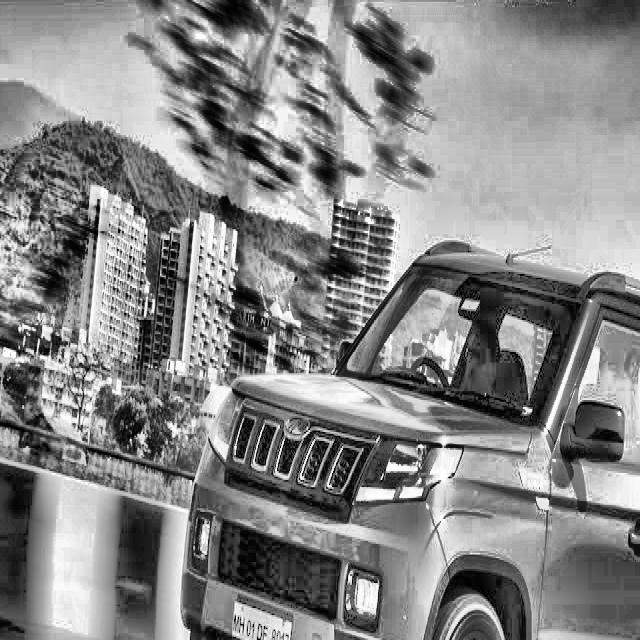light_vehicle: (194, 236, 640, 640)
